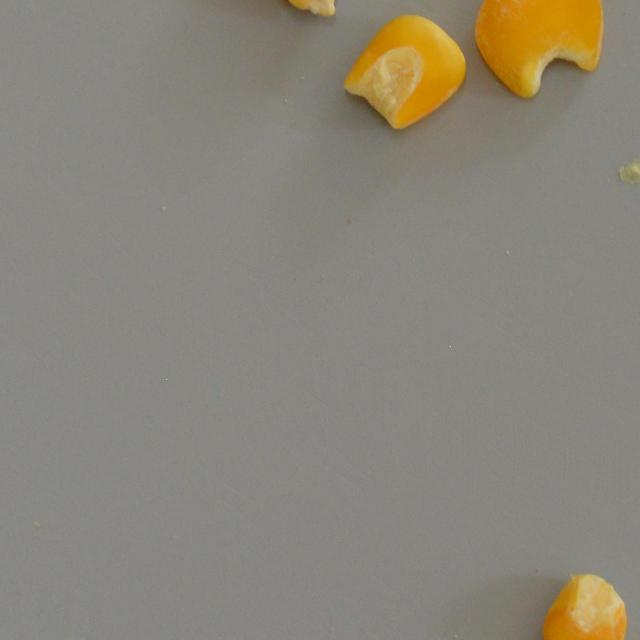entero: (229, 0, 342, 22)
no_canjicado: (469, 0, 606, 100)
no_desgerminado: (338, 5, 472, 136), (540, 566, 628, 640)
